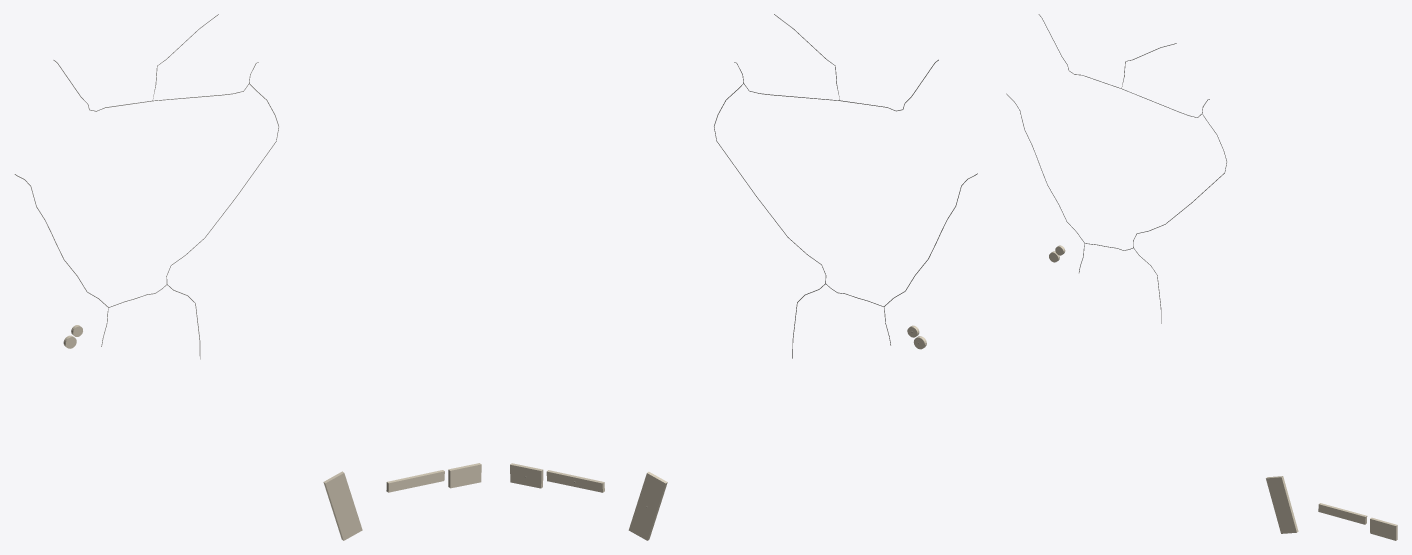
Rendered from historic-palestine-13_30_3546_3245.glb.
3 views of the same model, side by side, from view 1: azimuth 30°, elevation 25°; view 2: azimuth 150°, elevation 25°; view 3: azimuth 330°, elevation 25° (orthographic). The views are drawn at different scales.
Visible parts, largest first — view 1: Building_.002, Building_.001, Building_; view 2: Building_.002, Building_.001, Building_; view 3: Building_.002, Building_.001, Building_.
Part boxes in pixels (x1=…): Building_.002: x1=323, y1=471, x2=362, y2=540; Building_.001: x1=386, y1=470, x2=444, y2=492; Building_: x1=448, y1=463, x2=481, y2=488; Building_.002: x1=628, y1=471, x2=667, y2=540; Building_.001: x1=546, y1=470, x2=604, y2=492; Building_: x1=510, y1=463, x2=543, y2=488; Building_.002: x1=1266, y1=476, x2=1298, y2=533; Building_.001: x1=1318, y1=503, x2=1367, y2=524; Building_: x1=1370, y1=517, x2=1397, y2=540.
Size of the model in its own units: 1019 by 1162 by 8.7.
